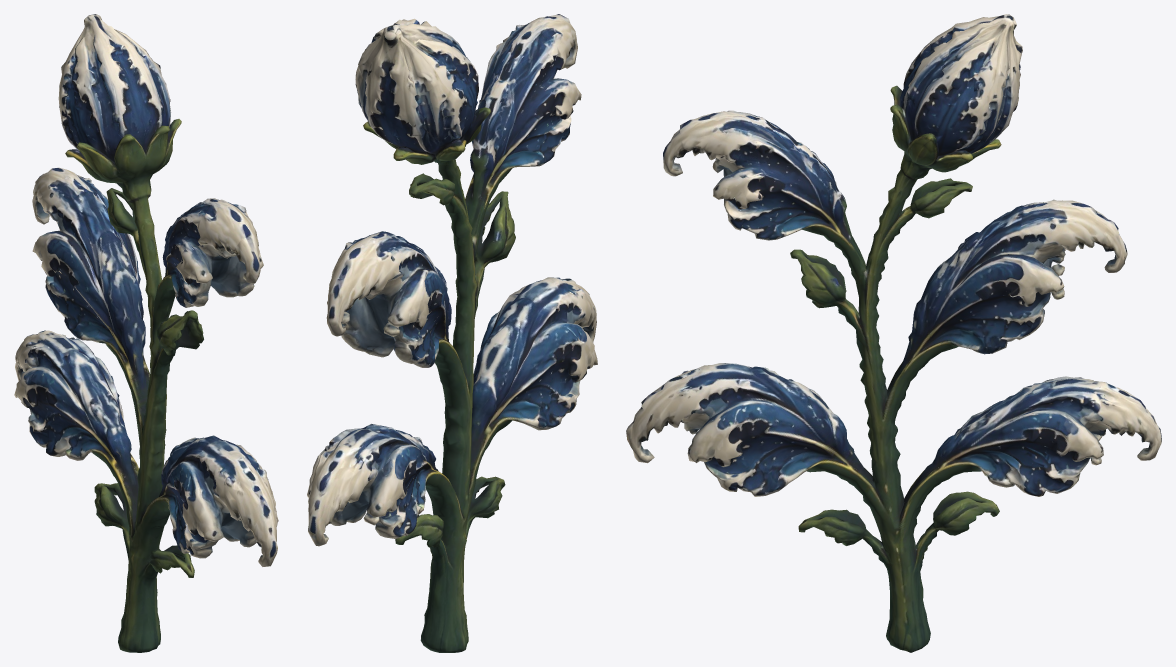
File: stylized+flower+3d+model+1k.glb
The picture shows the model from 3 angles, left to right: view 1: azimuth 30°, elevation 25°; view 2: azimuth 150°, elevation 25°; view 3: azimuth 270°, elevation 25°; orthographic projection. The views are drawn at different scales.
Visible parts, largest first — view 1: tripo_node_ee23c924-331e-451b-be16-128d7449d5a7; view 2: tripo_node_ee23c924-331e-451b-be16-128d7449d5a7; view 3: tripo_node_ee23c924-331e-451b-be16-128d7449d5a7.
Part boxes in pixels (x1=…): tripo_node_ee23c924-331e-451b-be16-128d7449d5a7: x1=14, y1=14, x2=278, y2=652; tripo_node_ee23c924-331e-451b-be16-128d7449d5a7: x1=307, y1=14, x2=597, y2=652; tripo_node_ee23c924-331e-451b-be16-128d7449d5a7: x1=626, y1=14, x2=1161, y2=652.
Bounding box in the file's own units: 0.1804 × 1 × 0.7708.
Materials: 1 (1 with a texture image).
